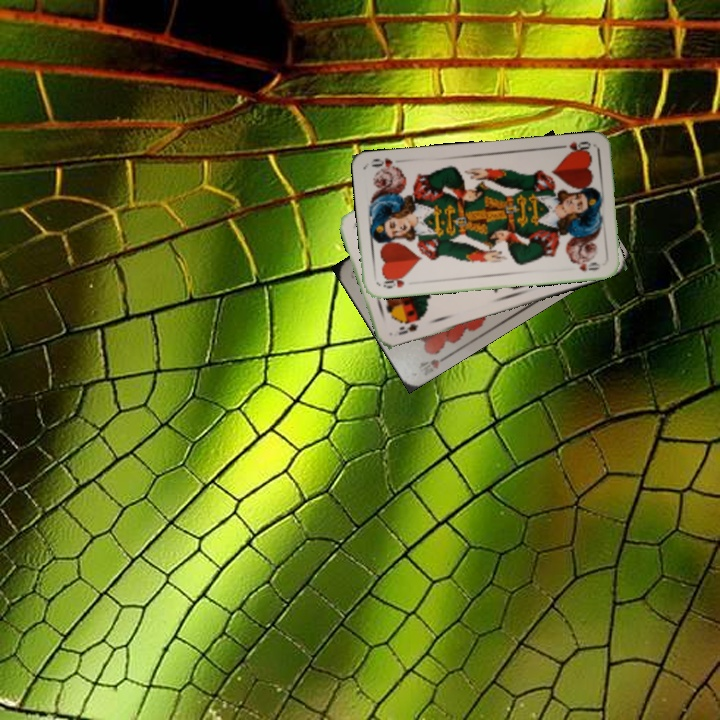H10: (426, 351, 452, 371)
HO: (554, 137, 593, 157), (379, 272, 410, 291)
SO: (394, 319, 421, 338)
